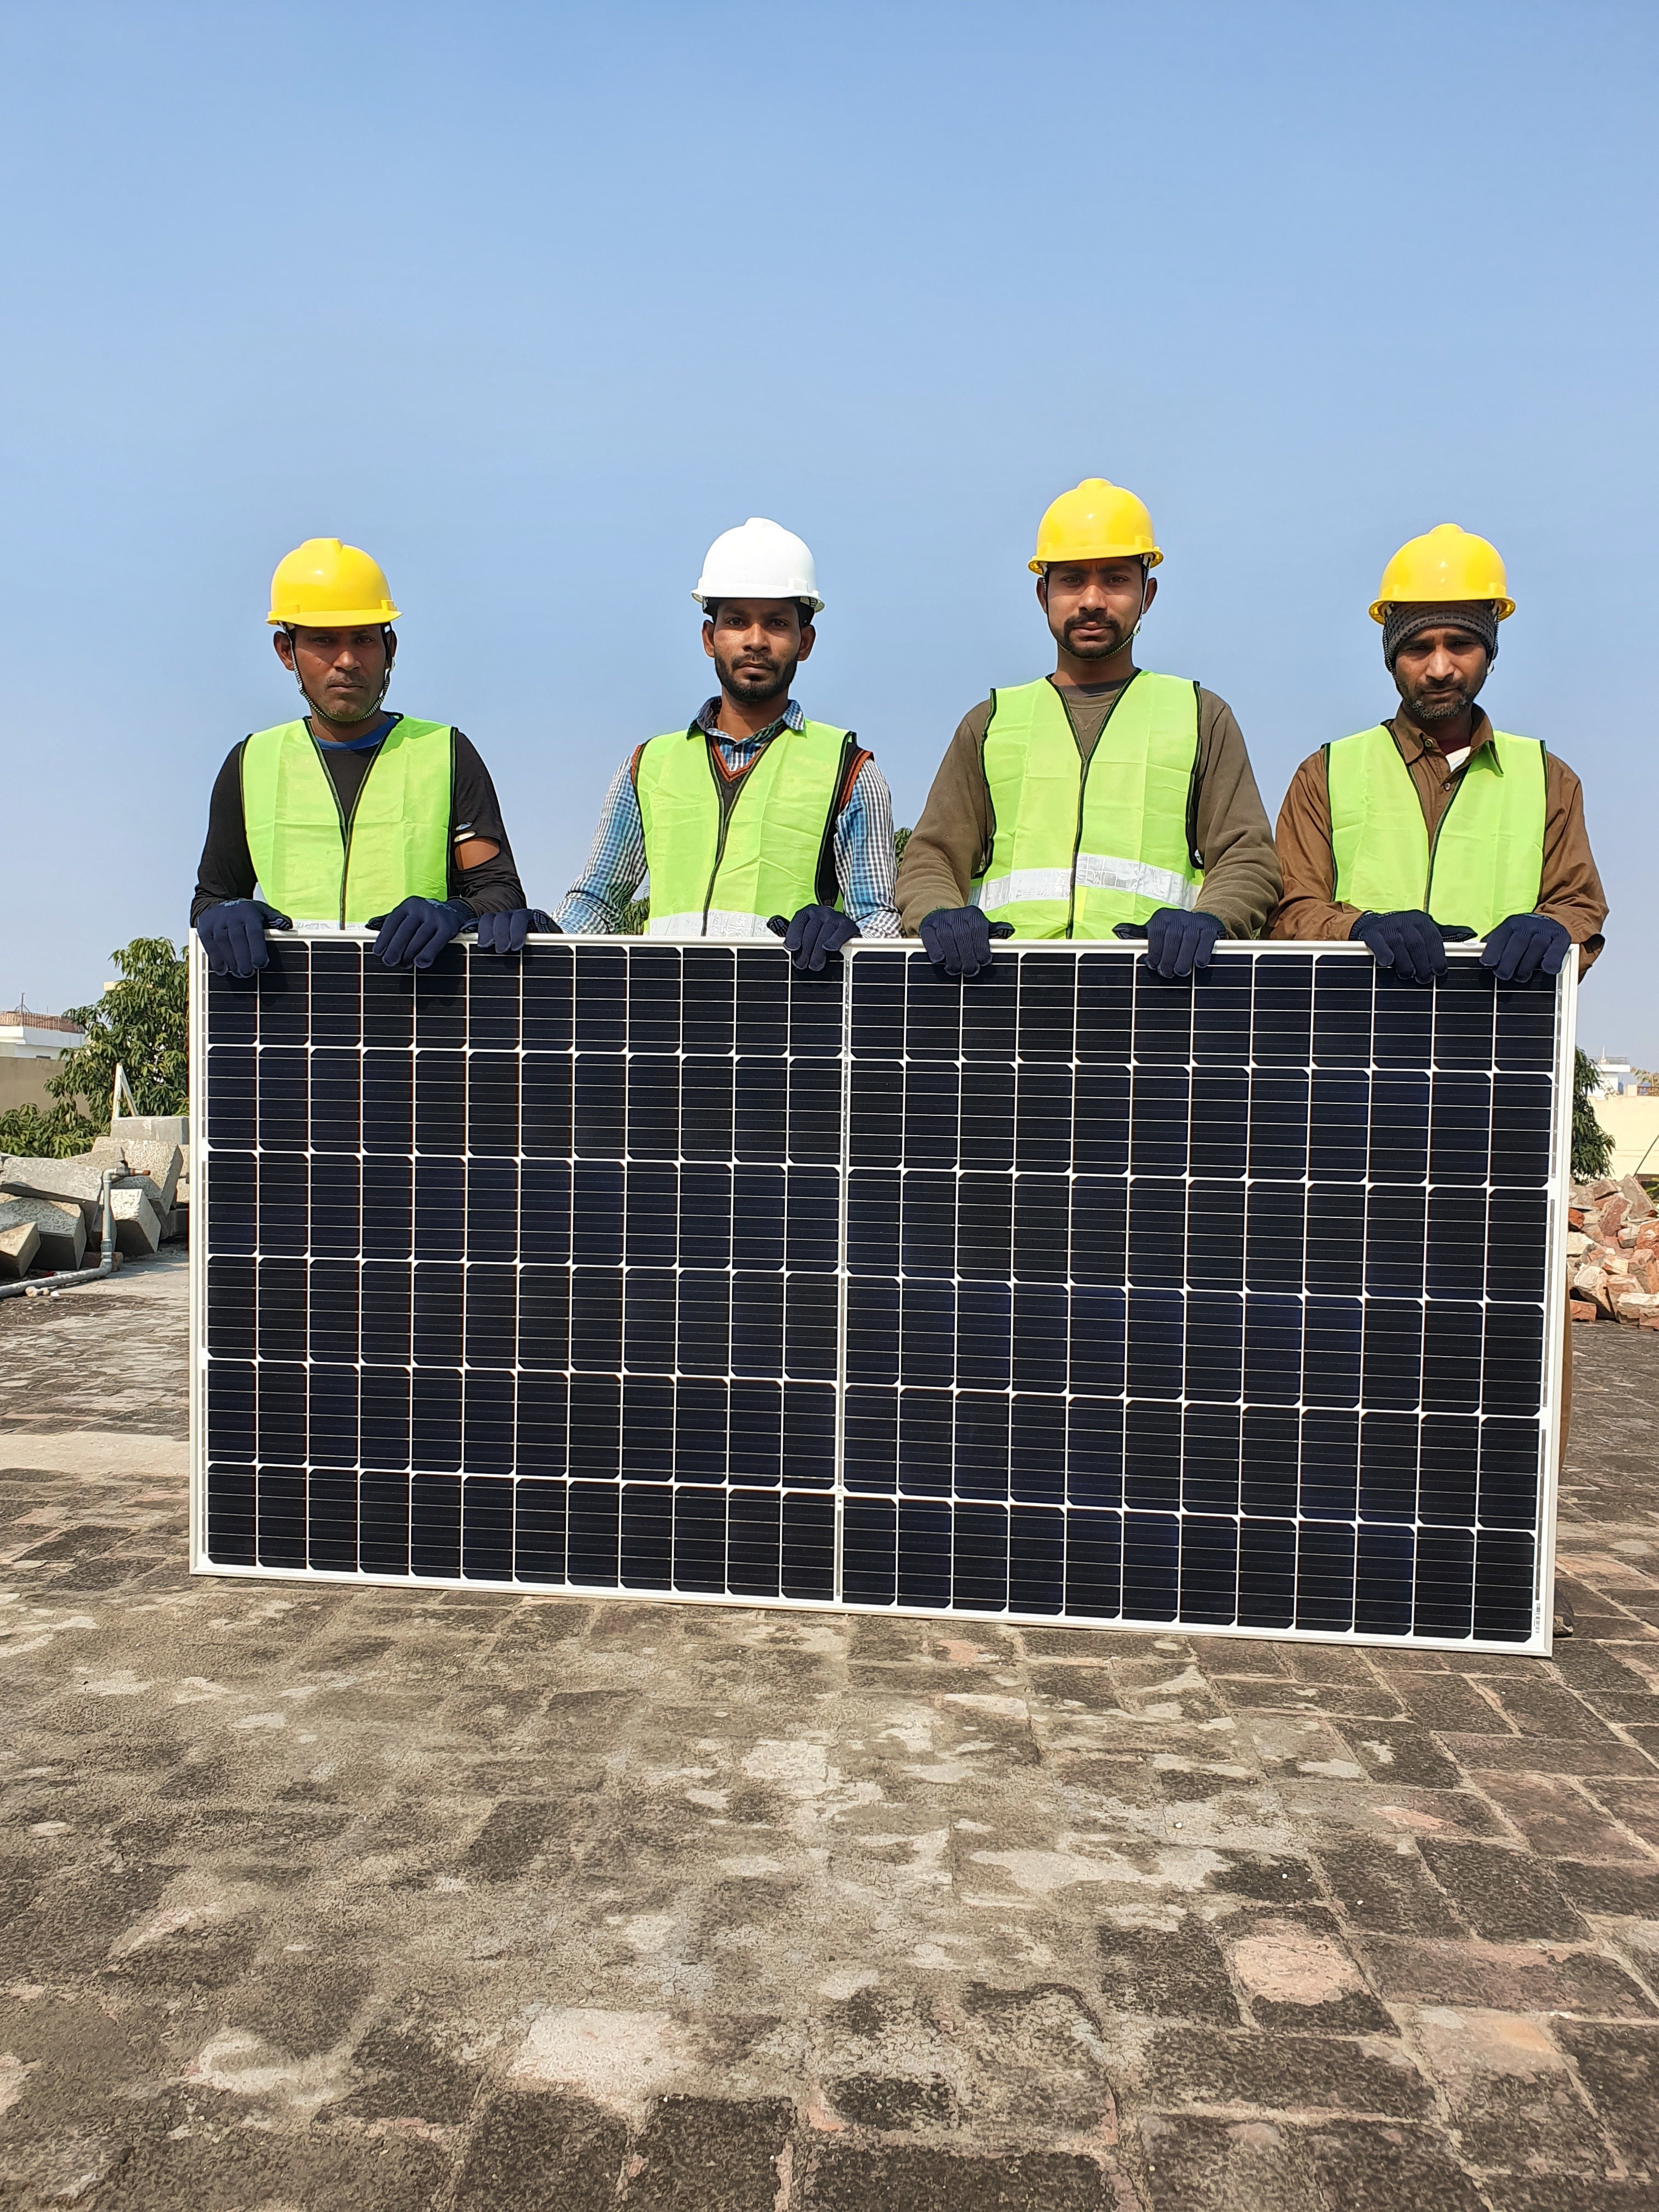Helmet: (244, 514, 441, 751), (1347, 493, 1528, 732), (655, 505, 843, 719), (1011, 467, 1178, 691)
Reflective vest: (967, 662, 1220, 951), (211, 704, 491, 935), (615, 714, 878, 946), (1317, 718, 1560, 954)
